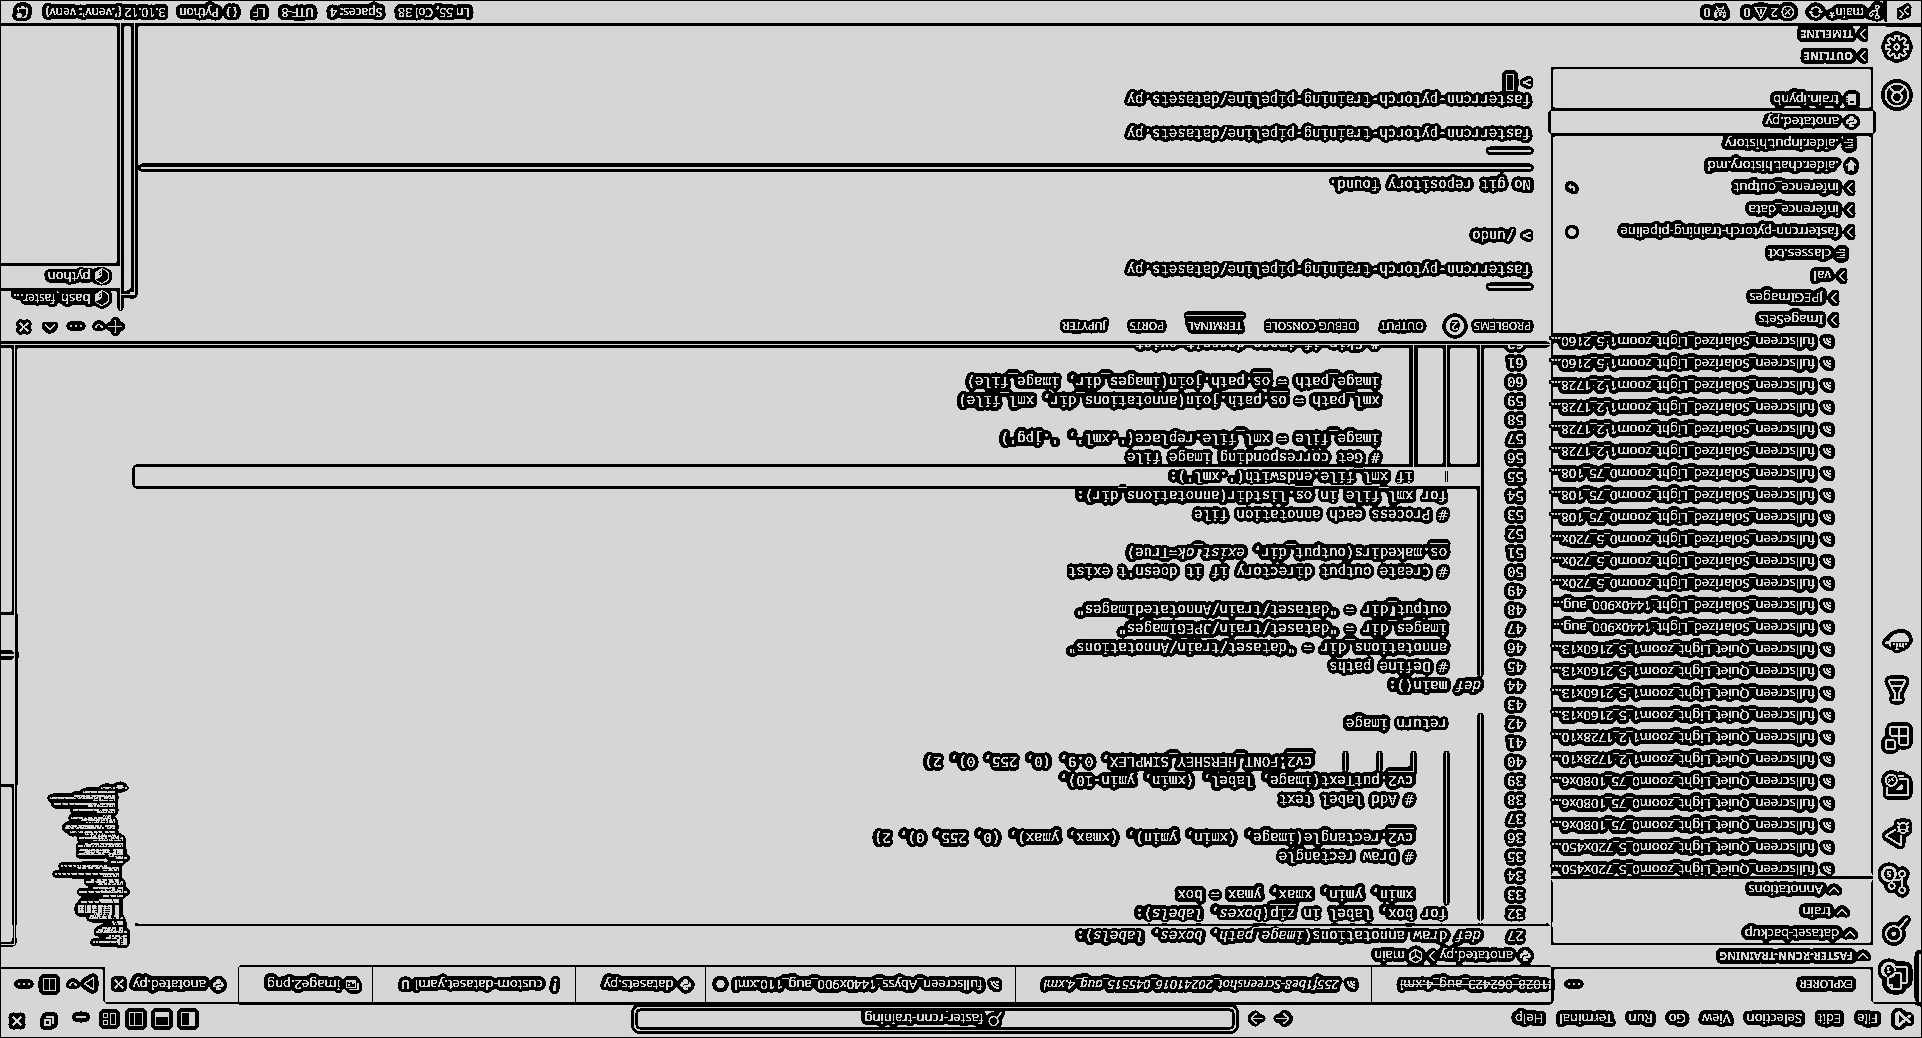Accounts: (1882, 77, 1916, 112)
Activity Bar: (1873, 24, 1919, 998)
Close: (6, 1010, 27, 1035)
Explorer: (1879, 957, 1916, 993)
Extensions: (1881, 724, 1918, 761)
Manage: (1884, 33, 1916, 60)
Maximize: (37, 1012, 58, 1034)
Minimize: (72, 1007, 96, 1032)
Panel: (3, 343, 1554, 1002), (3, 20, 1551, 343)
Primary Side Bar: (1551, 26, 1873, 998)
Run and Debug: (1882, 817, 1916, 850)
Search: (1882, 917, 1916, 950)
Search Bar: (630, 1006, 1242, 1034)
Source Control: (1880, 862, 1913, 908)
Status Bar: (3, 3, 1921, 20)
Testing: (1884, 676, 1916, 709)
Top Bar: (3, 1000, 1919, 1037)
